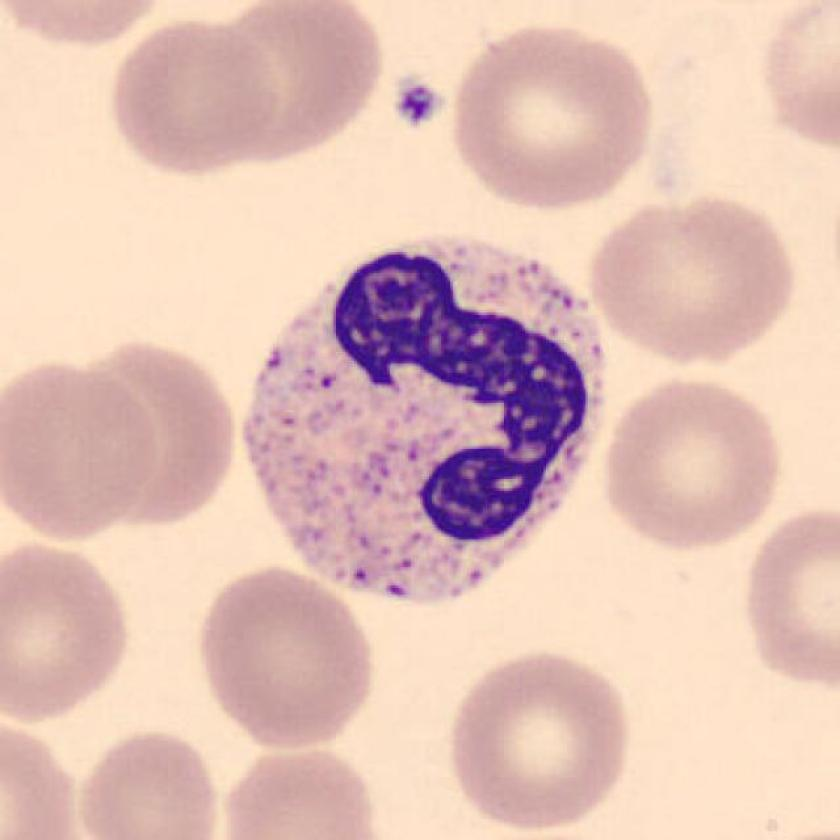neutrophil: (244, 237, 601, 606)
